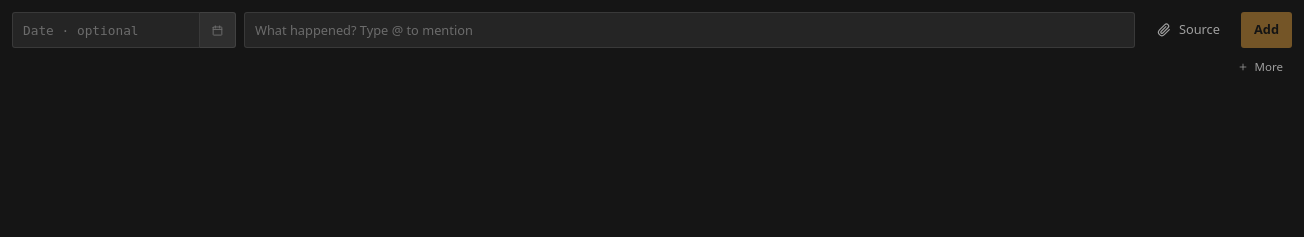
Test: mentions › offers an exact other name first and says which field matched
Type "Convoy at @X-roads" into the dropdown named "What happened" at [689, 30], box [244, 12, 1135, 48]
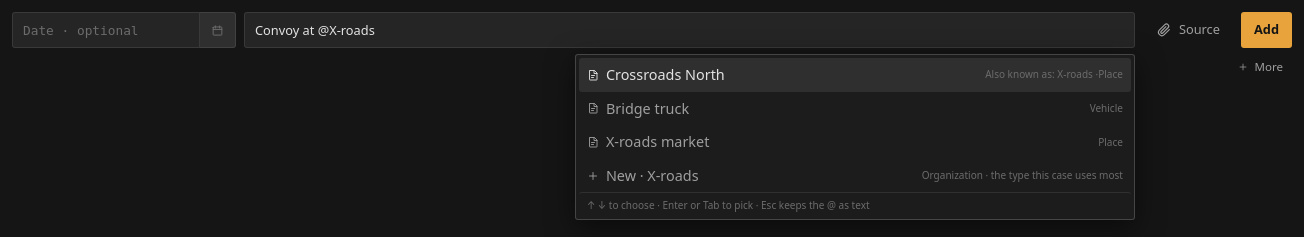
Result: the text with class "name" reads "Crossroads North" at [606, 65, 725, 84]
Result: the option "Crossroads North Also known as: X-roads ·Place" is shown at [579, 58, 1131, 92]
Result: the text with class "name" reads "New · X-roads" at [606, 166, 699, 185]
